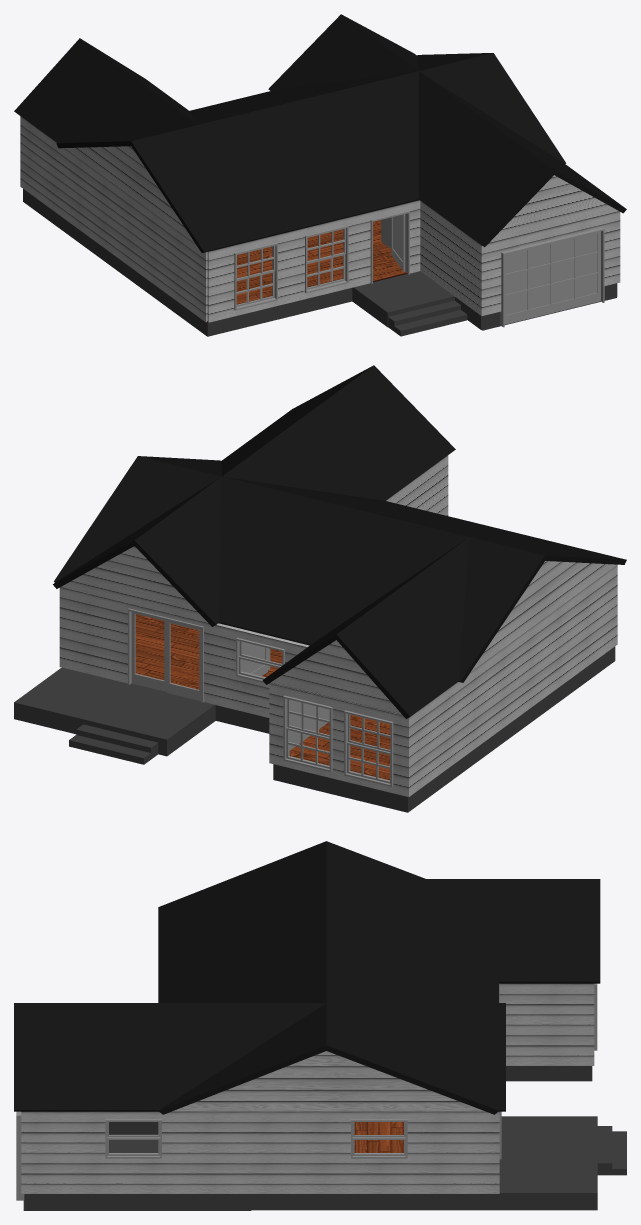
The model's file is house1.FBX.
3 views of the same model, one above another, from view 1: azimuth 30°, elevation 25°; view 2: azimuth 150°, elevation 25°; view 3: azimuth 270°, elevation 25° (orthographic). The views are drawn at different scales.
Visible parts, largest first — view 1: Wall009, Wall003, Box001, PivotDoor005, Plane001, Wall004, Object001, Box002, SlidingWindow002, SlidingWindow001, PivotDoor001; view 2: Wall009, Wall003, Box001, Plane001, Wall005, Object001, Object002, SlidingDoor001, Box003, SlidingWindow003, SlidingWindow004, Object003 (+2 smaller); view 3: Wall009, Wall003, Box001, Object001, Box003, Plane001, SlidingWindow006, SlidingWindow007, Box005, PivotDoor005.
Boxes of the visible parts, x1,y1,x2,y2 form: Wall009: (14,14,626,252); Wall003: (20,116,620,322); Box001: (23,189,617,336); PivotDoor005: (500,227,604,327); Plane001: (207,220,407,322); Wall004: (489,175,618,242); Object001: (65,146,195,243); Box002: (388,300,467,336); SlidingWindow002: (305,225,348,293); SlidingWindow001: (234,242,277,310); PivotDoor001: (370,211,409,283); Wall009: (53,365,626,718); Wall003: (59,455,617,796); Box001: (14,646,615,812); Plane001: (135,614,390,780); Wall005: (61,546,207,622); Object001: (471,561,617,671); Object002: (270,640,401,714); SlidingDoor001: (128,608,203,702); Box003: (69,724,158,764); SlidingWindow003: (283,695,332,772); SlidingWindow004: (344,710,393,786); Object003: (289,700,329,750); Wall009: (14,841,600,1114); Wall003: (21,983,594,1193); Box001: (24,1066,597,1210); Object001: (172,1051,485,1111); Box003: (597,1126,626,1175); Plane001: (354,1122,403,1152); SlidingWindow006: (351,1119,407,1158); SlidingWindow007: (105,1119,161,1158); Box005: (23,1134,251,1210); PivotDoor005: (16,1111,24,1200).
Bounding box in the file's own units: 510 × 198 × 647.
